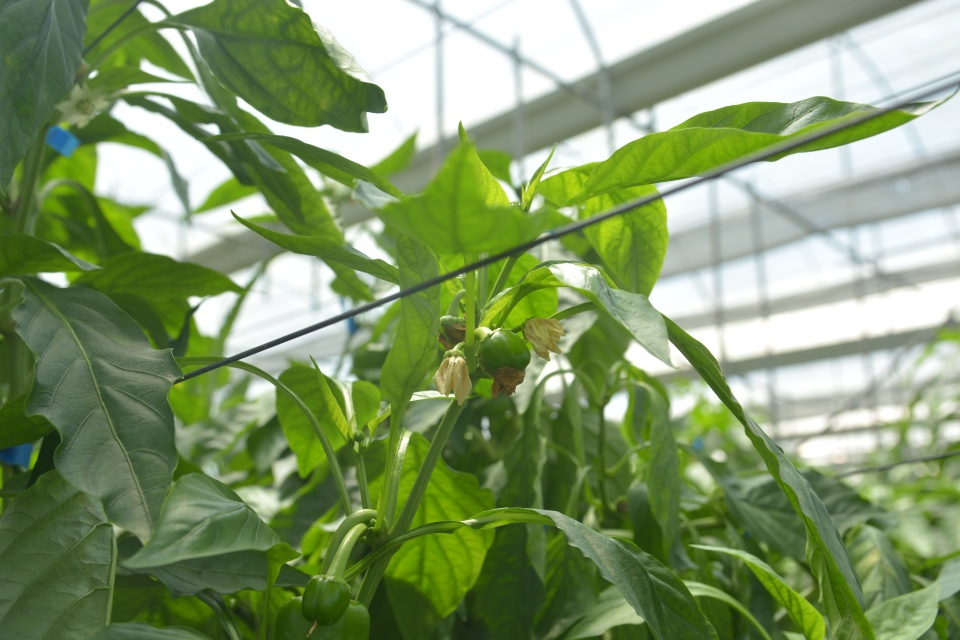flower: (53, 78, 112, 130)
immature: (274, 593, 372, 640), (474, 326, 532, 399), (300, 572, 353, 624)
